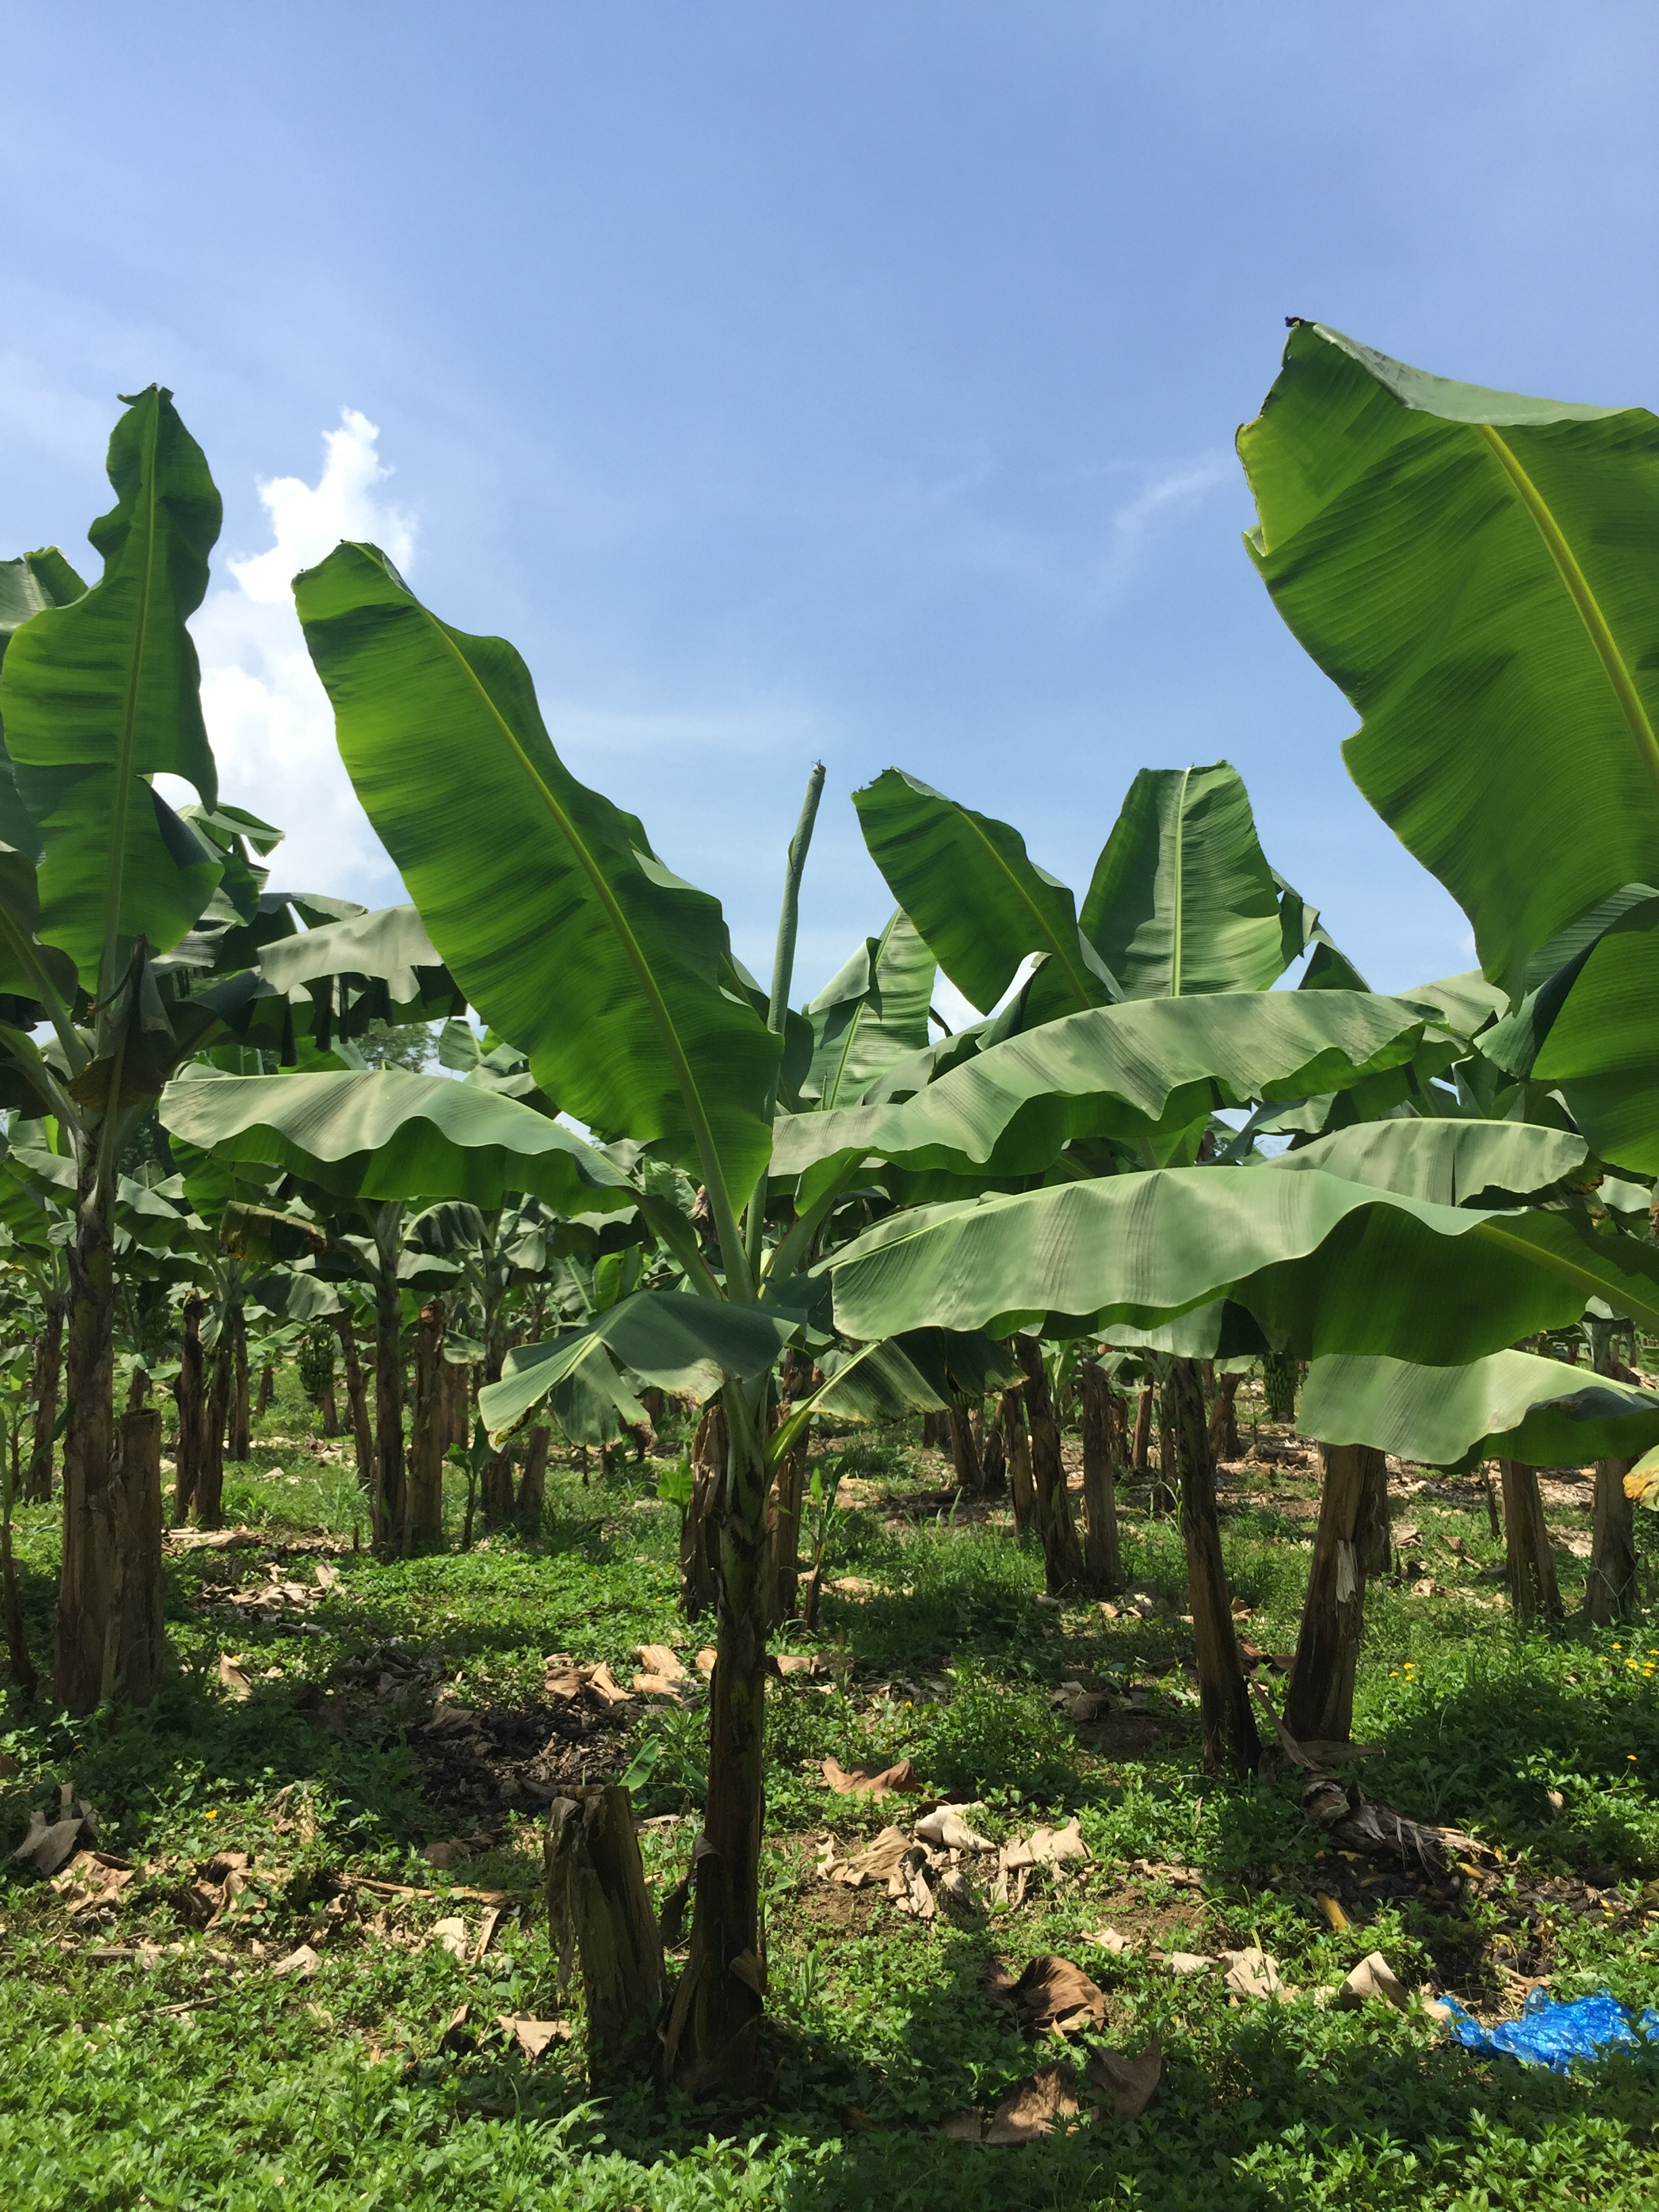candleleafs: (744, 761, 824, 1287)
